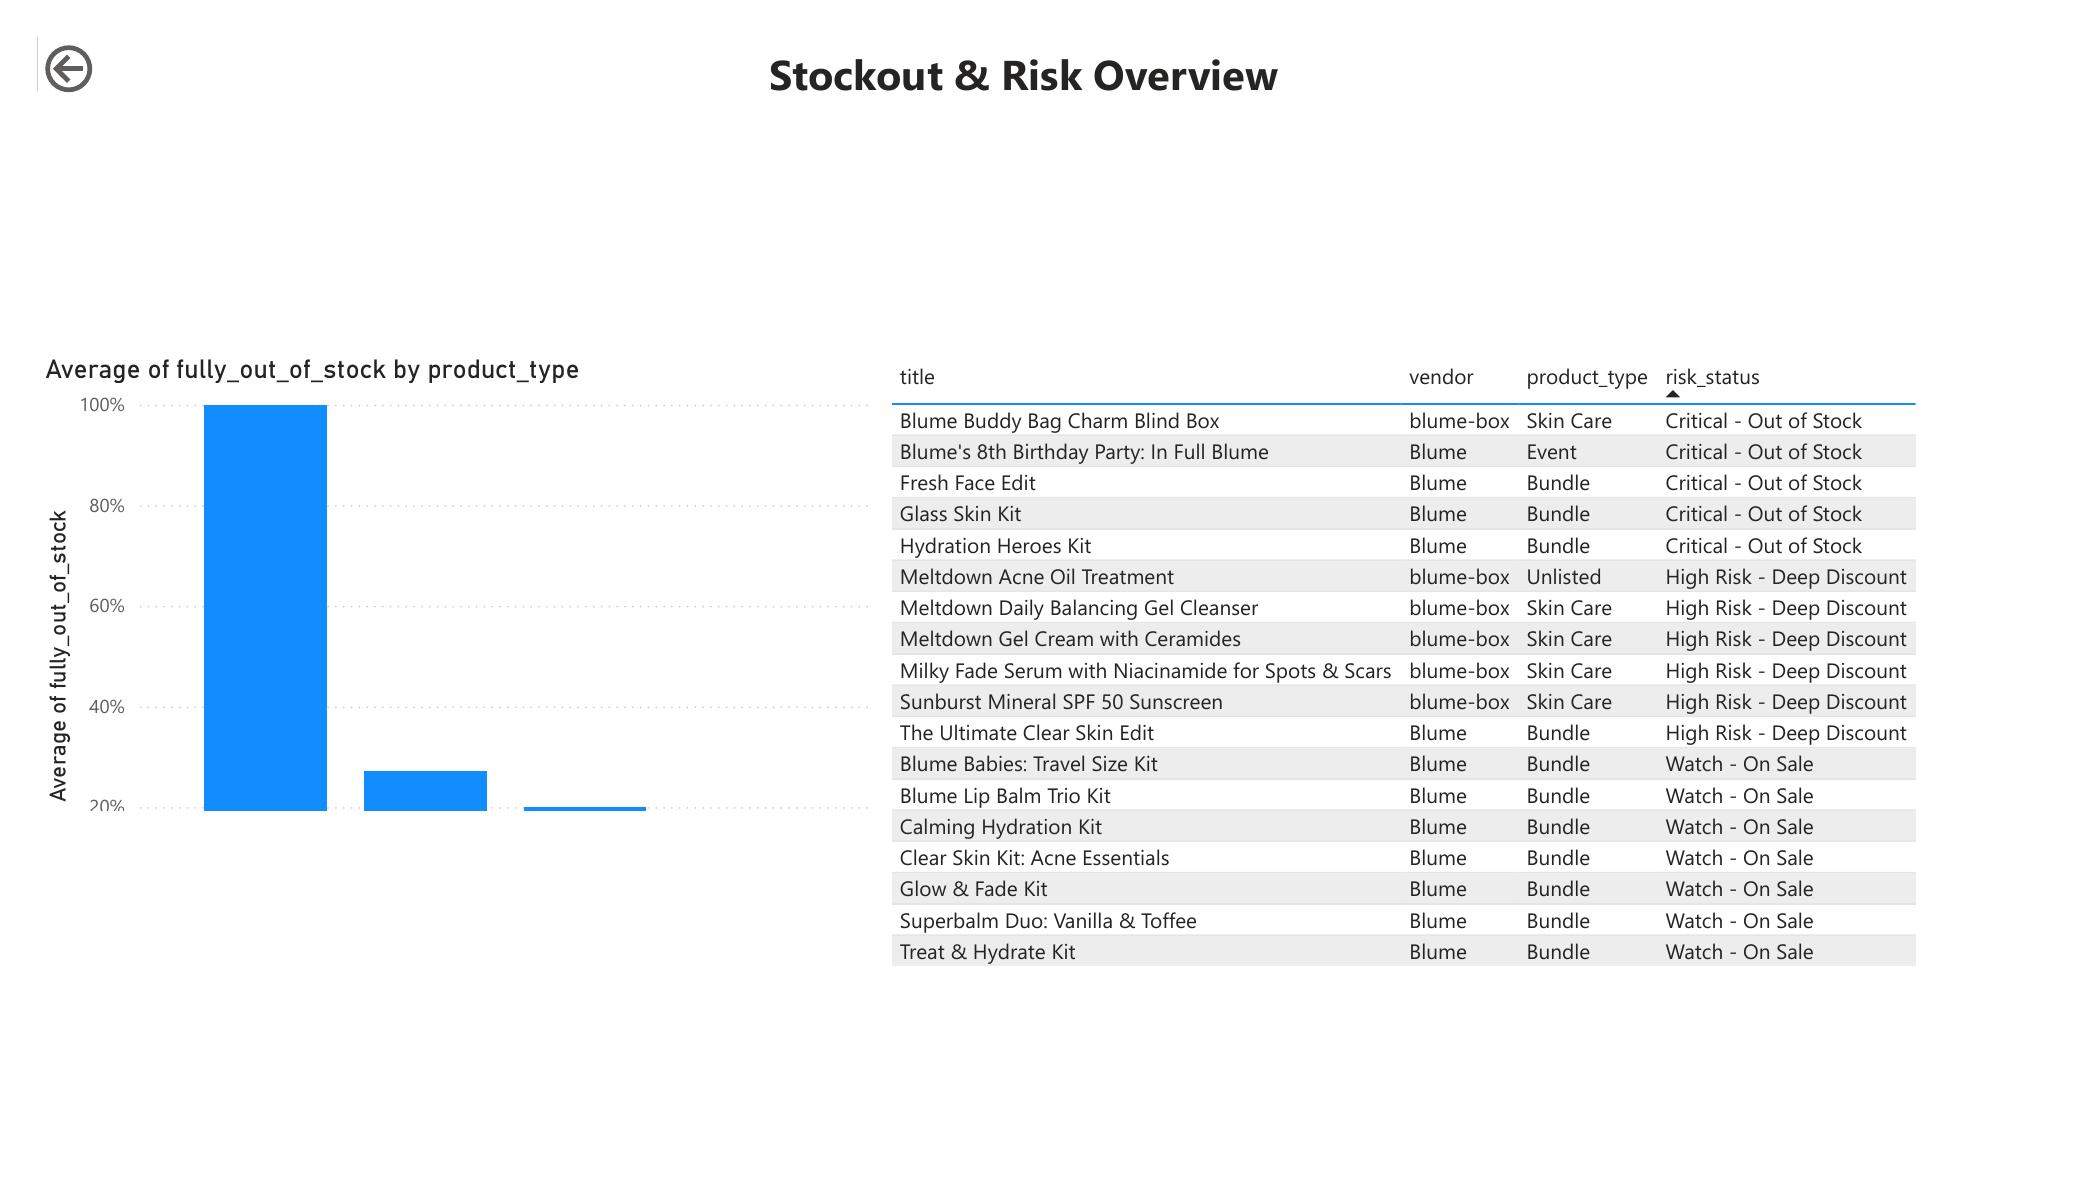

The dashboard page shown, as its layout file describes it:
{"tool":"powerbi","page":{"name":"Stockout & Risk","canvas":[1280,720],"ordinal":2},"visuals":[{"type":"clusteredColumnChart","fields":{"Category":["query 8 blume.product_type"],"Y":["Avg(query 8 blume.fully_out_of_stock)"]},"box":[0,295,573.3,398.3],"z":0},{"type":"tableEx","fields":{"Values":["query 8 blume.title","query 8 blume.vendor","query 8 blume.product_type","query 8 blume.risk_status"]},"box":[588.3,65,691.7,396.7],"z":1},{"type":"actionButton","box":[0,0,100,40],"z":2},{"type":"textbox","box":[297.3,0,668.6,65.5],"z":4}]}

Visuals, with their boxes on the page's 1280x720 design canvas (x1, y1, x2, y2). These are canvas units, not pixel positions in the 2075x1200 screenshot, which may show the page scaled, cropped or inside an application window:
clusteredColumnChart - query 8 blume.product_type x Avg(query 8 blume.fully_out_of_stock): (x1=0, y1=295, x2=573, y2=693)
tableEx - query 8 blume.title x query 8 blume.vendor: (x1=588, y1=65, x2=1280, y2=462)
actionButton: (x1=0, y1=0, x2=100, y2=40)
textbox: (x1=297, y1=0, x2=966, y2=66)
